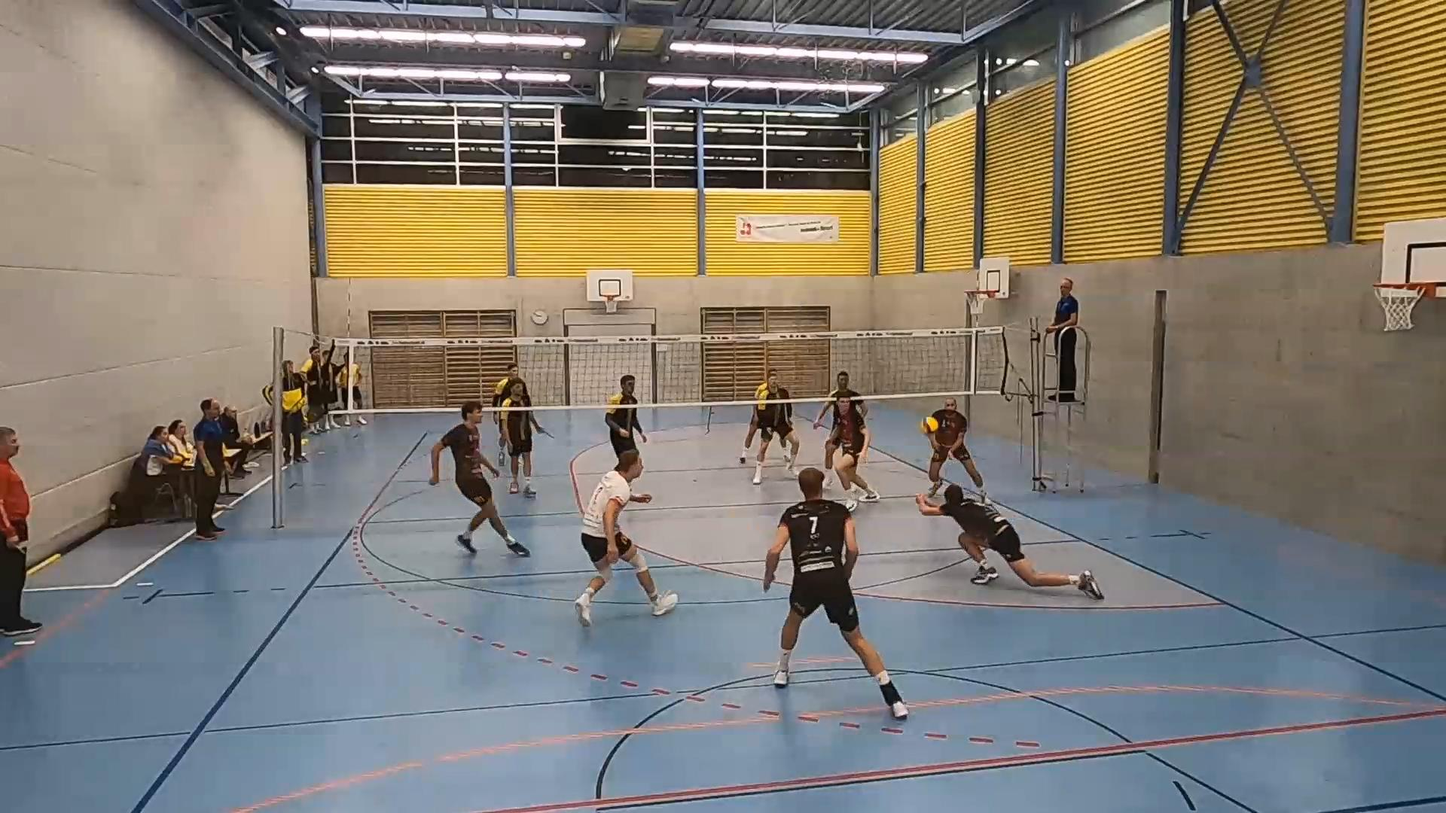Dig: (916, 484, 1098, 601)
Player: (763, 467, 907, 718), (575, 449, 678, 626), (429, 400, 529, 556), (928, 397, 989, 504), (813, 371, 866, 489), (833, 391, 880, 510), (752, 370, 798, 485), (499, 379, 542, 497), (605, 374, 645, 455), (739, 381, 767, 464), (491, 362, 519, 410)
ball: (923, 418, 945, 431)
